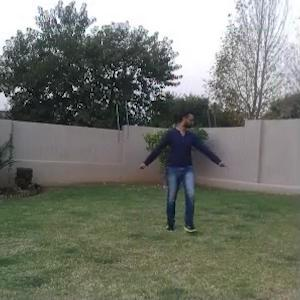land: (136, 96, 238, 236)
